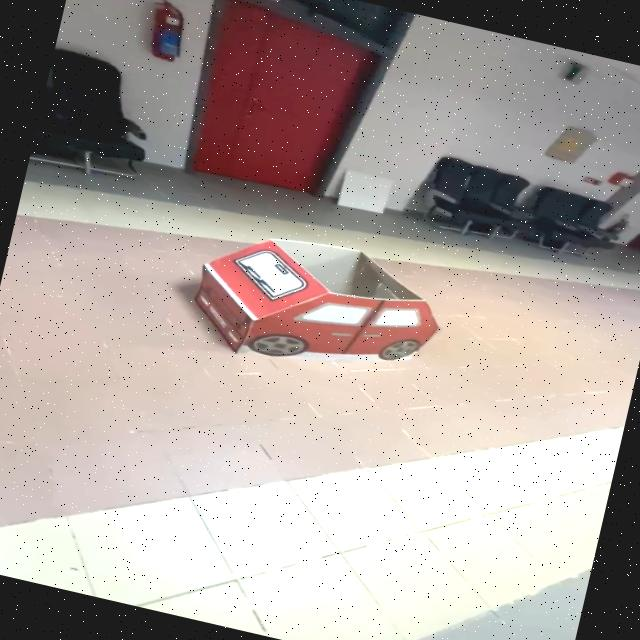red_car: (163, 203, 470, 416)
